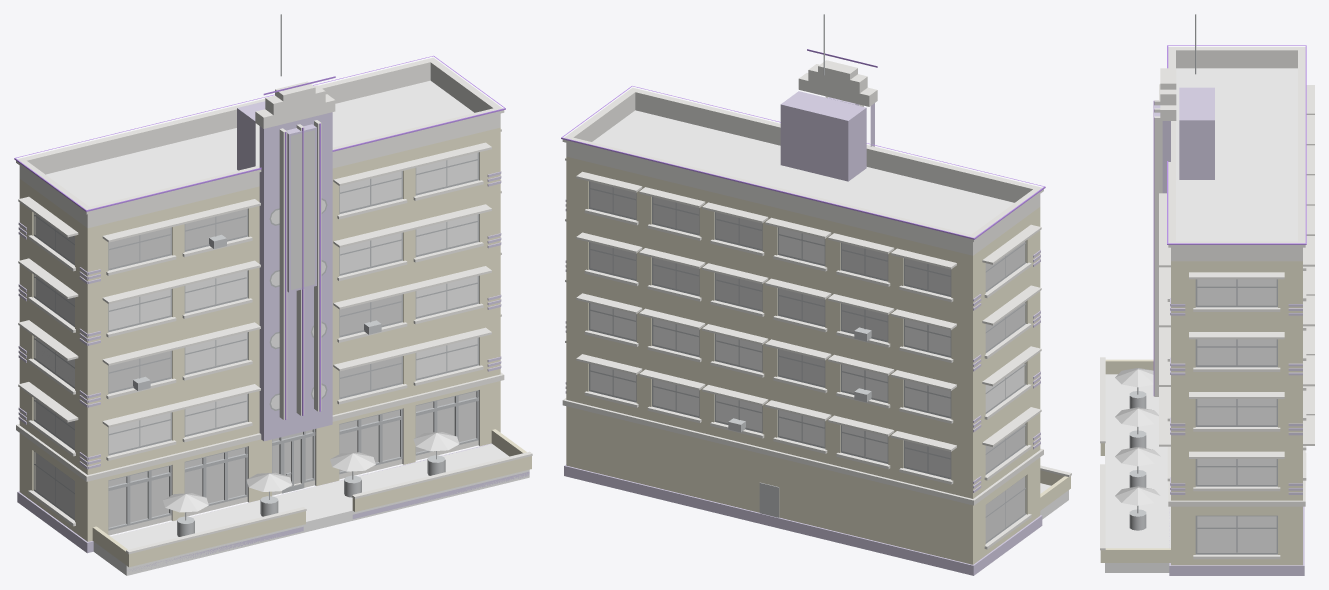
The model's file is deco_w84f4s.glb.
3 views of the same model, side by side, from view 1: azimuth 30°, elevation 25°; view 2: azimuth 150°, elevation 25°; view 3: azimuth 270°, elevation 25° (orthographic). The views are drawn at different scales.
Visible parts, largest first — view 1: deco_w84f4s_Walls, deco_w84f4s_Trim, deco_w84f4s_WindowsLit, deco_w84f4s_Accent, deco_w84f4s_Glass, deco_w84f4s_Frames, deco_w84f4s_Roof, deco_w84f4s_Walls2, deco_w84f4s_Brand, deco_w84f4s_Neon, deco_w84f4s_Awning, deco_w84f4s_Details; view 2: deco_w84f4s_Walls, deco_w84f4s_Trim, deco_w84f4s_WindowsLit, deco_w84f4s_Glass, deco_w84f4s_Roof, deco_w84f4s_Accent, deco_w84f4s_Frames, deco_w84f4s_Neon, deco_w84f4s_Details; view 3: deco_w84f4s_Trim, deco_w84f4s_Walls, deco_w84f4s_Roof, deco_w84f4s_Glass, deco_w84f4s_Walls2, deco_w84f4s_Accent, deco_w84f4s_Frames, deco_w84f4s_Awning, deco_w84f4s_Neon, deco_w84f4s_Details.
Part boxes in pixels (box(x1,y1,x2,y2)): deco_w84f4s_Walls: box(19, 127, 531, 567); deco_w84f4s_Trim: box(16, 57, 532, 554); deco_w84f4s_WindowsLit: box(35, 209, 476, 527); deco_w84f4s_Accent: box(17, 101, 529, 571); deco_w84f4s_Glass: box(35, 152, 477, 453); deco_w84f4s_Frames: box(33, 152, 479, 530); deco_w84f4s_Roof: box(46, 80, 474, 206); deco_w84f4s_Walls2: box(93, 444, 529, 575); deco_w84f4s_Brand: box(291, 130, 314, 289); deco_w84f4s_Neon: box(14, 55, 505, 419); deco_w84f4s_Awning: box(163, 432, 459, 512); deco_w84f4s_Details: box(133, 14, 445, 536); deco_w84f4s_Walls: box(566, 156, 1070, 564); deco_w84f4s_Trim: box(562, 60, 1071, 549); deco_w84f4s_WindowsLit: box(590, 181, 1024, 541); deco_w84f4s_Glass: box(590, 227, 1024, 462); deco_w84f4s_Roof: box(592, 110, 1013, 234); deco_w84f4s_Accent: box(564, 91, 1042, 575); deco_w84f4s_Frames: box(589, 181, 1026, 543); deco_w84f4s_Neon: box(561, 49, 1045, 239); deco_w84f4s_Details: box(728, 14, 871, 517); deco_w84f4s_Trim: box(1100, 47, 1314, 559); deco_w84f4s_Walls: box(1100, 261, 1302, 565); deco_w84f4s_Roof: box(1176, 68, 1297, 241); deco_w84f4s_Glass: box(1197, 279, 1276, 552); deco_w84f4s_Walls2: box(1105, 374, 1170, 572); deco_w84f4s_Accent: box(1154, 87, 1304, 575); deco_w84f4s_Frames: box(1195, 279, 1277, 554); deco_w84f4s_Awning: box(1115, 368, 1160, 505); deco_w84f4s_Neon: box(1153, 45, 1306, 395); deco_w84f4s_Details: box(1129, 14, 1196, 530).
Size of the model in its own units: 88.4 by 93 by 39.1.
